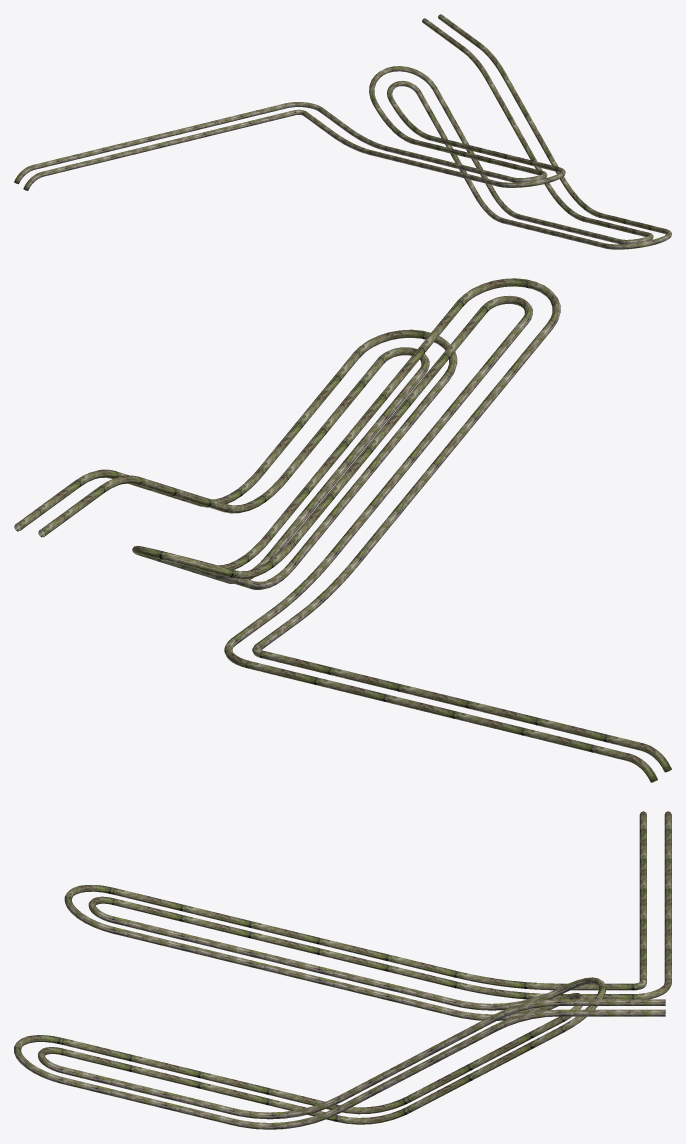
The model's file is pipe_1long_colider.fbx.
The picture shows the model from 3 angles, top to bottom: view 1: azimuth 30°, elevation 25°; view 2: azimuth 150°, elevation 25°; view 3: azimuth 270°, elevation 25°; orthographic projection. The views are drawn at different scales.
Visible parts, largest first — view 1: pipe; view 2: pipe; view 3: pipe.
Part boxes in pixels (<box>): pipe: <box>14,14,671,249</box>; pipe: <box>14,278,671,782</box>; pipe: <box>14,811,671,1129</box>.
Size of the model in its own units: 1869 by 560 by 1854.
